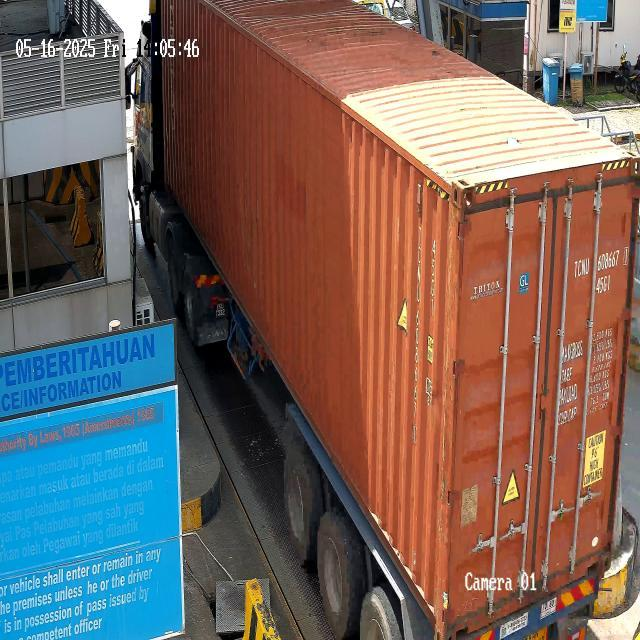ISO: (424, 236, 438, 330), (592, 274, 614, 296)
container_number: (409, 210, 422, 450), (574, 246, 635, 278)
